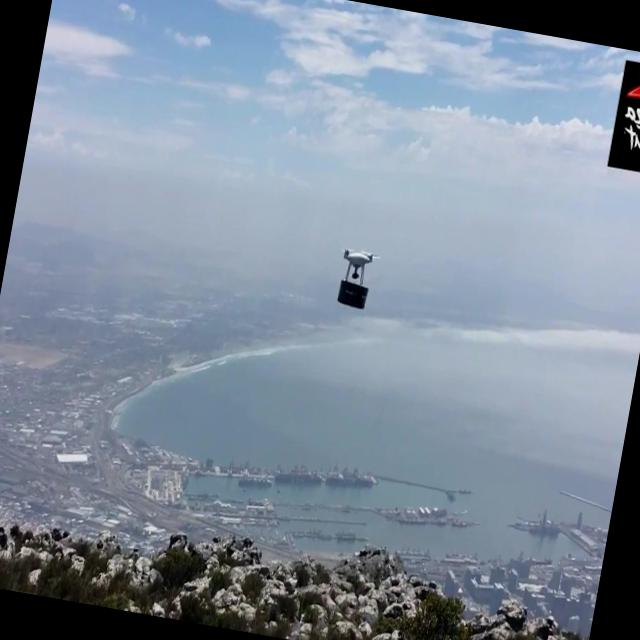drone: (330, 246, 380, 310)
